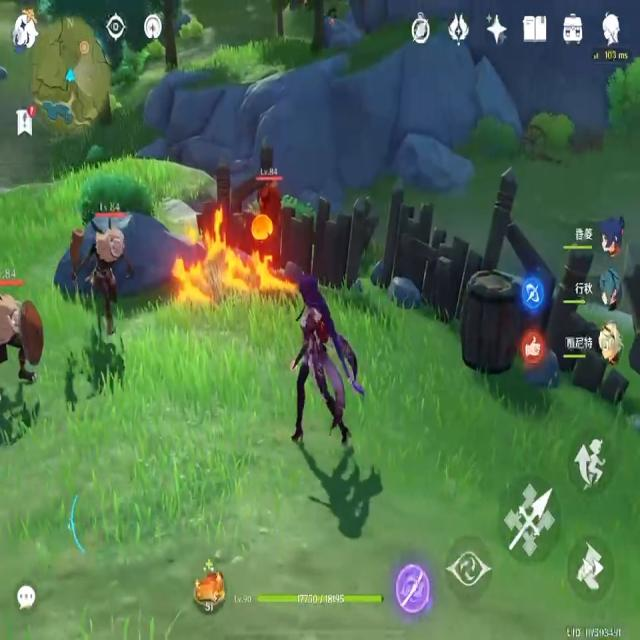genshin-hilichurls: (69, 206, 134, 336), (1, 256, 45, 405), (247, 164, 281, 271)
